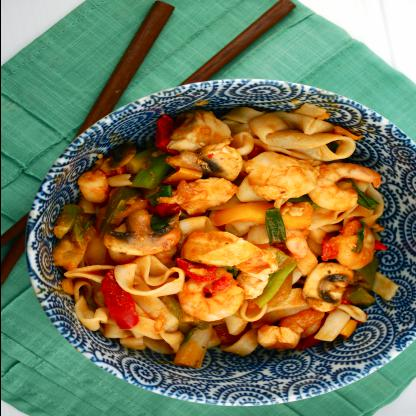Pad Thai: (25, 95, 402, 390)
